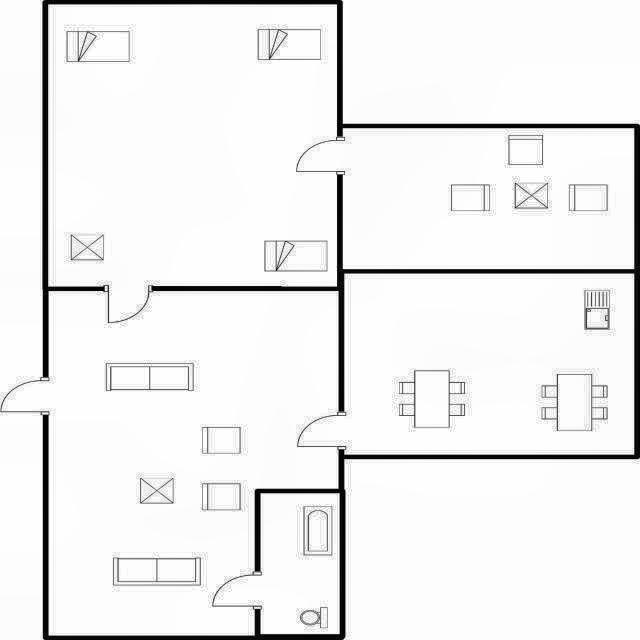room: (48, 289, 339, 636), (49, 4, 336, 286), (345, 274, 634, 455), (344, 128, 633, 269), (262, 494, 338, 634)
